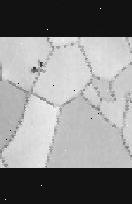good_void: (30, 66, 39, 72), (39, 60, 44, 66)
